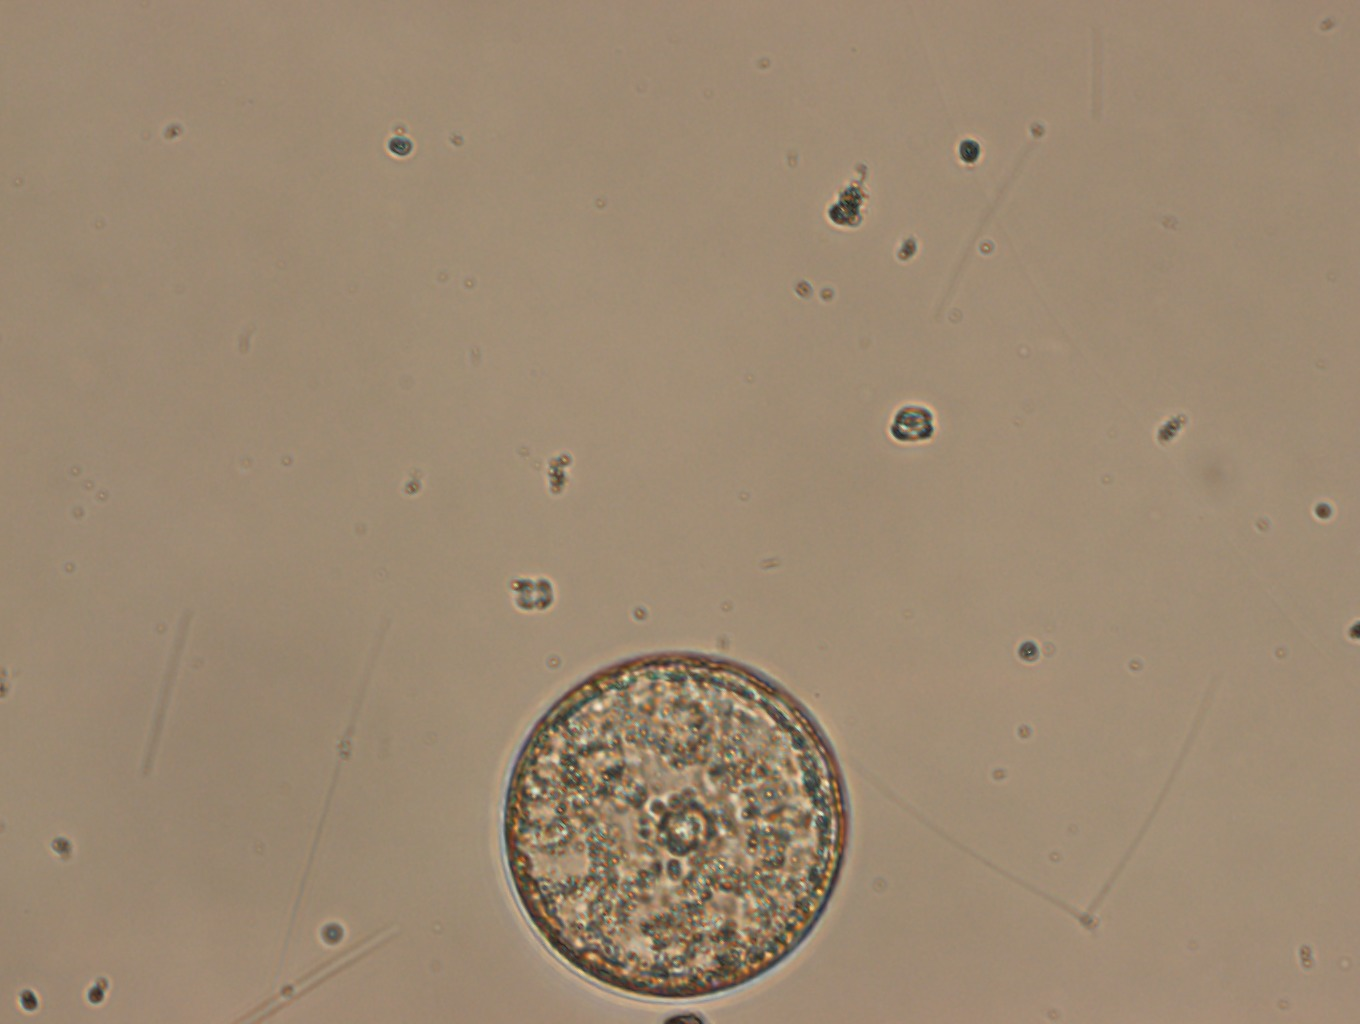coscinodiscus: (493, 642, 857, 1007)
